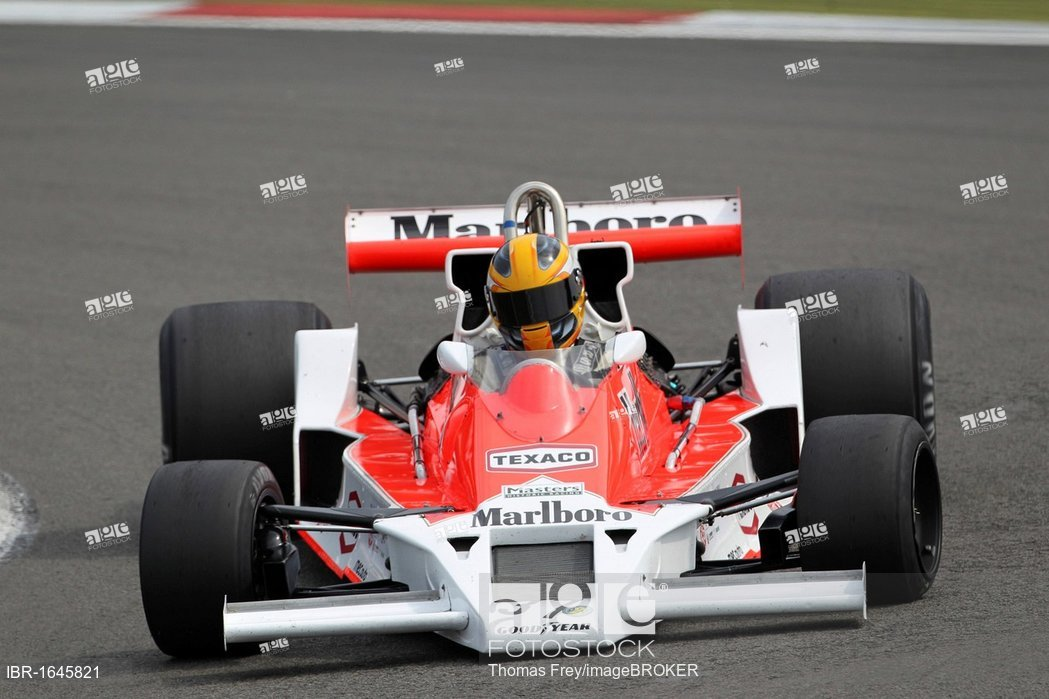f1_car: (117, 161, 965, 683)
helmet: (481, 232, 592, 362)
